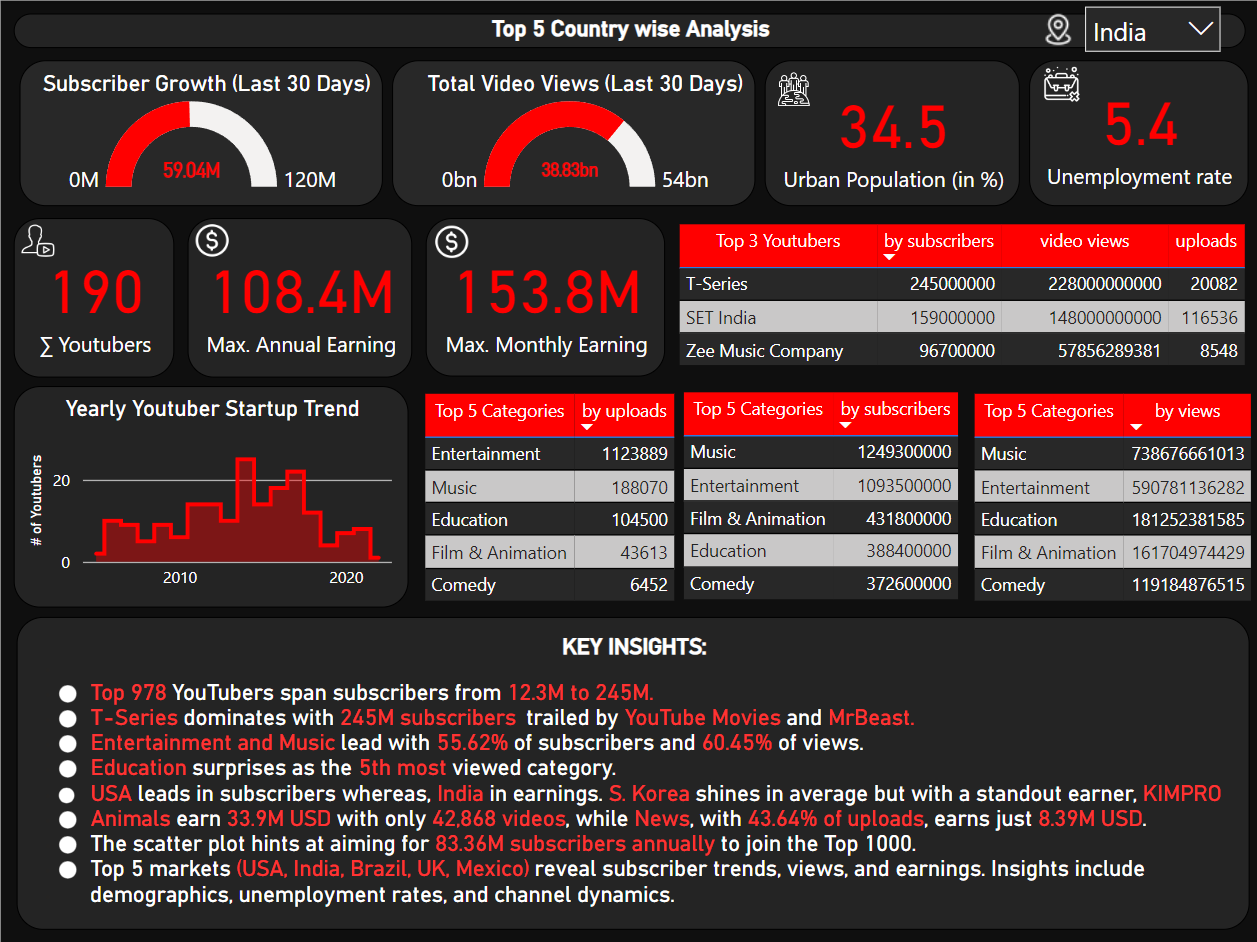

Layout of this report page (visuals, bound fields, positions):
{"tool":"powerbi","page":{"name":"TopYT2","canvas":[960,720],"ordinal":1},"visuals":[{"type":"textbox","box":[10,10,938.7,26.5],"z":0},{"type":"gauge","title":"Total Video Views (Last 30 Days)","fields":{"Y":["Sum(Onyx Data -DataDNA Dataset Challenge - Top 1000 YouTubers - November 2023.video_views_for_the_last_30_days)"]},"box":[297.9,45.3,277.1,111.4],"z":0,"group":"g2"},{"type":"card","fields":{"Values":["Count(Onyx Data -DataDNA Dataset Challenge - Top 1000 YouTubers - November 2023.Youtuber)"]},"box":[10,165.1,122.7,121.5],"z":0,"group":"g1"},{"type":"gauge","title":"Subscriber Growth (Last 30 Days)","fields":{"Y":["Sum(Onyx Data -DataDNA Dataset Challenge - Top 1000 YouTubers - November 2023.subscribers_for_last_30_days)"]},"box":[14.1,45.3,277.1,111.4],"z":1000,"group":"g2"},{"type":"areaChart","title":"Yearly Youtuber Startup Trend","fields":{"Category":["Onyx Data -DataDNA Dataset Challenge - Top 1000 YouTubers - November 2023.Start_date.Variation.Date Hierarchy.Year"],"Y":["CountNonNull(Onyx Data -DataDNA Dataset Challenge - Top 1000 YouTubers - November 2023.Youtuber)"]},"box":[10.2,293.3,301.1,168.9],"z":1000,"group":"g1"},{"type":"textbox","box":[12,469.3,939.3,238.7],"z":1000},{"type":"slicer","fields":{"Values":["Onyx Data -DataDNA Dataset Challenge - Top 1000 YouTubers - November 2023.Country"]},"box":[821.7,0,113,40],"z":2000},{"type":"card","fields":{"Values":["Avg(Onyx Data -DataDNA Dataset Challenge - Top 1000 YouTubers - November 2023.%Urban)"]},"box":[581.7,45.3,194.7,111.2],"z":2000,"group":"g2"},{"type":"card","fields":{"Values":["Max(Onyx Data -DataDNA Dataset Challenge - Top 1000 YouTubers - November 2023.highest_yearly_earnings)"]},"box":[142.2,165,171.3,121.5],"z":2000,"group":"g1"},{"type":"image","box":[787.4,4.8,35.2,35.2],"z":3000},{"type":"card","fields":{"Values":["Avg(Onyx Data -DataDNA Dataset Challenge - Top 1000 YouTubers - November 2023.Unemployment rate)"]},"box":[783,45.3,167.1,111.2],"z":3000,"group":"g2"},{"type":"card","fields":{"Values":["Sum(Onyx Data -DataDNA Dataset Challenge - Top 1000 YouTubers - November 2023.highest_monthly_earnings)"]},"box":[323.5,165.5,182.2,121.1],"z":3000,"group":"g1"},{"type":"group","id":"g1","title":"Group 1","box":[10,162,948.7,300.7],"z":4000},{"type":"tableEx","title":"Top 3 Categories by subscribers","fields":{"Values":["Onyx Data -DataDNA Dataset Challenge - Top 1000 YouTubers - November 2023.category","Sum(Onyx Data -DataDNA Dataset Challenge - Top 1000 YouTubers - November 2023.subscribers)"]},"box":[514.6,293.3,227.8,168.9],"z":4000,"group":"g1"},{"type":"group","id":"g2","title":"Group 2","box":[14.1,45.3,935.9,111.2],"z":5000},{"type":"tableEx","title":"Top 3 Categories by subscribers","fields":{"Values":["Onyx Data -DataDNA Dataset Challenge - Top 1000 YouTubers - November 2023.category","Sum(Onyx Data -DataDNA Dataset Challenge - Top 1000 YouTubers - November 2023.uploads)"]},"box":[316.8,294.4,215.6,167.8],"z":5000,"group":"g1"},{"type":"image","box":[586.7,50,35.3,35.3],"z":6000},{"type":"tableEx","title":"Top 3 Categories by subscribers","fields":{"Values":["Onyx Data -DataDNA Dataset Challenge - Top 1000 YouTubers - November 2023.category","Sum(Onyx Data -DataDNA Dataset Challenge - Top 1000 YouTubers - November 2023.video views)"]},"box":[735.7,294.4,223.3,167.8],"z":6000,"group":"g1"},{"type":"image","box":[787.3,43.3,40,40],"z":7000},{"type":"tableEx","fields":{"Values":["Onyx Data -DataDNA Dataset Challenge - Top 1000 YouTubers - November 2023.Youtuber","Sum(Onyx Data -DataDNA Dataset Challenge - Top 1000 YouTubers - November 2023.subscribers)","Sum(Onyx Data -DataDNA Dataset Challenge - Top 1000 YouTubers - November 2023.video views)","Sum(Onyx Data -DataDNA Dataset Challenge - Top 1000 YouTubers - November 2023.uploads)"]},"box":[514.6,165.5,435.6,127.8],"z":7000,"group":"g1"},{"type":"image","box":[11.6,165.5,35,35.5],"z":8000,"group":"g1"},{"type":"image","box":[141.1,162,39,40],"z":9000,"group":"g1"},{"type":"image","box":[324.1,163,39,40],"z":10000,"group":"g1"}]}

Visuals, with their boxes in screenshot pixels (x1, y1, x2, y2), scaled from the page's 960x720 canvas onto the 1257x942 screenshot:
textbox: BBox(13, 13, 1242, 48)
"Total Video Views (Last 30 Days)" gauge: BBox(390, 59, 753, 205)
card - Count(Onyx Data -DataDNA Dataset Challenge - Top 1000 YouTubers - November 2023.Youtuber): BBox(13, 216, 174, 375)
"Subscriber Growth (Last 30 Days)" gauge: BBox(18, 59, 381, 205)
"Yearly Youtuber Startup Trend" areaChart: BBox(13, 384, 408, 605)
textbox: BBox(16, 614, 1246, 926)
slicer - Onyx Data -DataDNA Dataset Challenge - Top 1000 YouTubers - November 2023.Country: BBox(1076, 0, 1224, 52)
card - Avg(Onyx Data -DataDNA Dataset Challenge - Top 1000 YouTubers - November 2023.%Urban): BBox(762, 59, 1017, 205)
card - Max(Onyx Data -DataDNA Dataset Challenge - Top 1000 YouTubers - November 2023.highest_yearly_earnings): BBox(186, 216, 410, 375)
image: BBox(1031, 6, 1077, 52)
card - Avg(Onyx Data -DataDNA Dataset Challenge - Top 1000 YouTubers - November 2023.Unemployment rate): BBox(1025, 59, 1244, 205)
card - Sum(Onyx Data -DataDNA Dataset Challenge - Top 1000 YouTubers - November 2023.highest_monthly_earnings): BBox(424, 217, 662, 375)
"Group 1" group: BBox(13, 212, 1255, 605)
"Top 3 Categories by subscribers" tableEx: BBox(674, 384, 972, 605)
"Group 2" group: BBox(18, 59, 1244, 205)
"Top 3 Categories by subscribers" tableEx: BBox(415, 385, 697, 605)
image: BBox(768, 65, 814, 112)
"Top 3 Categories by subscribers" tableEx: BBox(963, 385, 1256, 605)
image: BBox(1031, 57, 1083, 109)
tableEx - Onyx Data -DataDNA Dataset Challenge - Top 1000 YouTubers - November 2023.Youtuber x Sum(Onyx Data -DataDNA Dataset Challenge - Top 1000 YouTubers - November 2023.subscribers): BBox(674, 217, 1244, 384)
image: BBox(15, 217, 61, 263)
image: BBox(185, 212, 236, 264)
image: BBox(424, 213, 475, 266)
